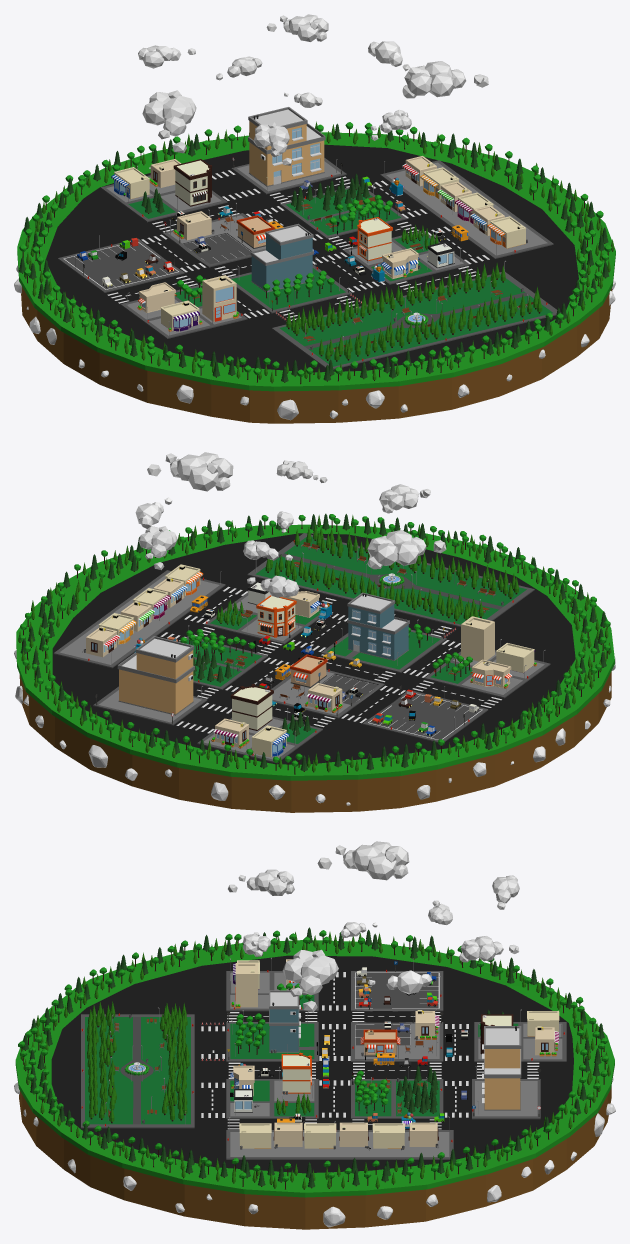
Rendered from Lowpoly_City.gltf.
3 views of the same model, one above another, from view 1: azimuth 30°, elevation 25°; view 2: azimuth 150°, elevation 25°; view 3: azimuth 270°, elevation 25° (orthographic).
Size of the model in its own units: 372 by 139 by 373.
Materials: 17 (2 with a texture image).
